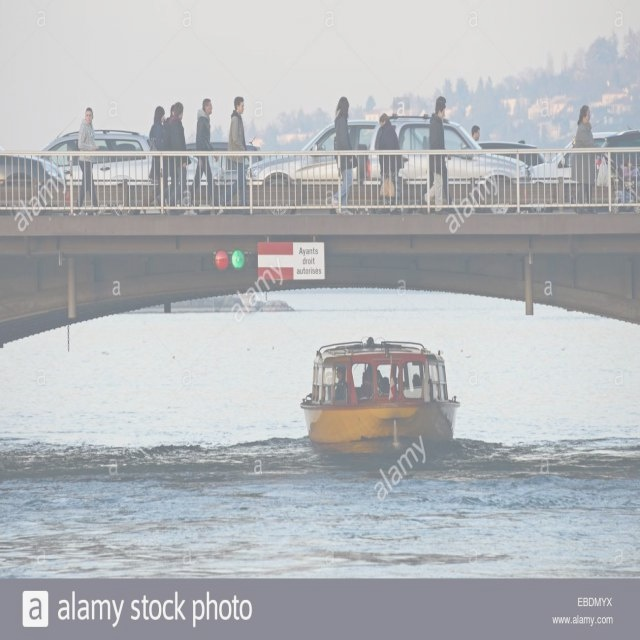pessoa: (182, 96, 222, 216), (420, 94, 460, 214), (325, 358, 422, 403), (570, 106, 608, 216), (72, 106, 107, 217), (418, 102, 452, 216), (218, 96, 250, 210), (331, 93, 359, 216), (374, 110, 404, 217), (165, 100, 192, 216), (142, 104, 168, 214), (571, 104, 597, 214), (156, 103, 180, 215), (64, 138, 76, 165), (471, 124, 481, 142), (626, 158, 633, 168)
